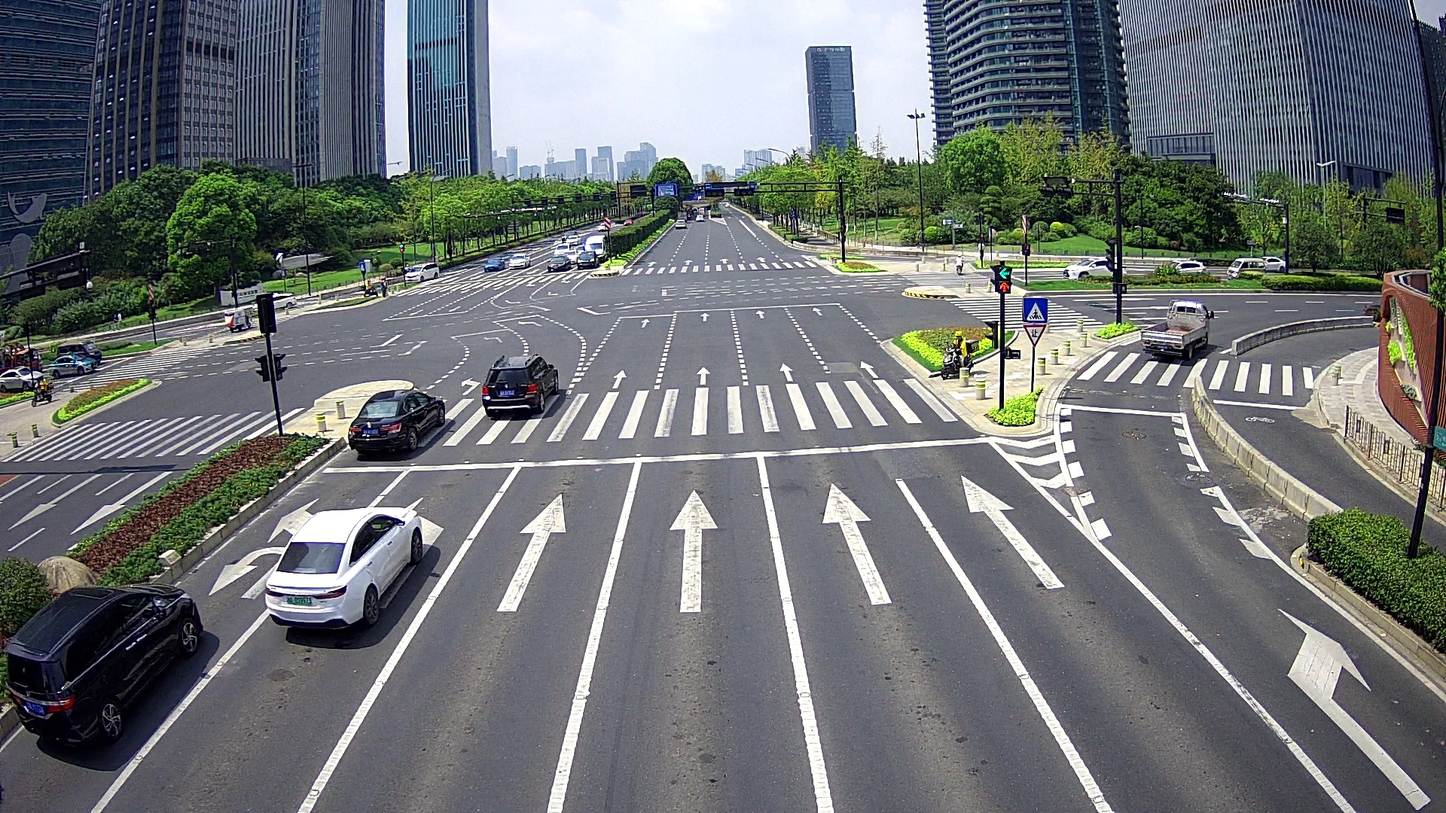person: (950, 328, 973, 373)
vehicle: (4, 577, 207, 748), (259, 504, 427, 632), (345, 384, 451, 457), (480, 351, 563, 423), (1136, 296, 1215, 364), (933, 340, 981, 380)
